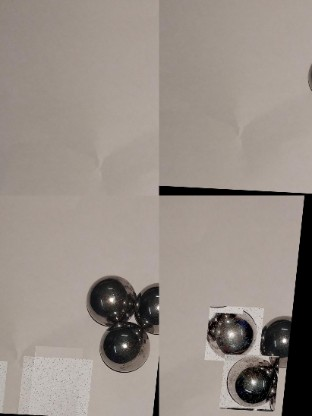ironball: (210, 302, 268, 359), (226, 351, 285, 407), (96, 320, 156, 374), (86, 276, 138, 327), (264, 303, 297, 365), (134, 281, 158, 333)
